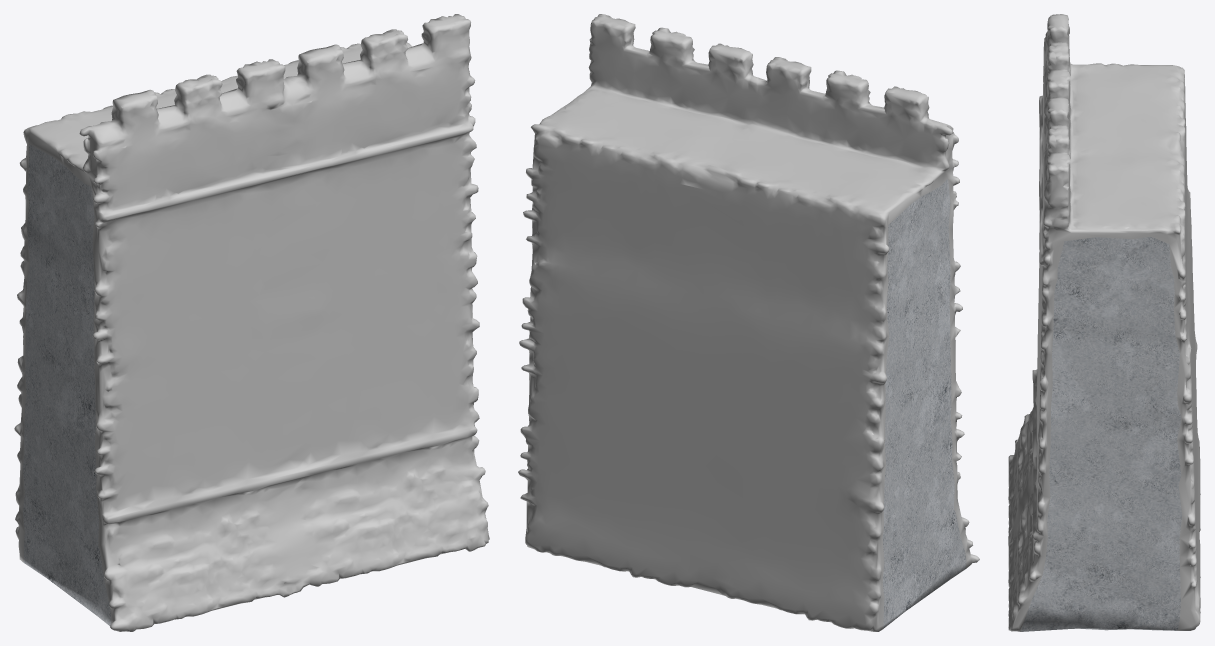
3 views of the same model, side by side, from view 1: azimuth 30°, elevation 25°; view 2: azimuth 150°, elevation 25°; view 3: azimuth 270°, elevation 25° (orthographic). The views are drawn at different scales.
Parts seen in each view (by area): view 1: wall_large; view 2: wall_large; view 3: wall_large.
Part boxes in pixels (left/top/right/bottom): wall_large: left=14, top=14, right=489, bottom=631; wall_large: left=518, top=14, right=979, bottom=631; wall_large: left=1008, top=14, right=1200, bottom=631.
Bounding box in the file's own units: 10.05 × 12.66 × 4.7.
